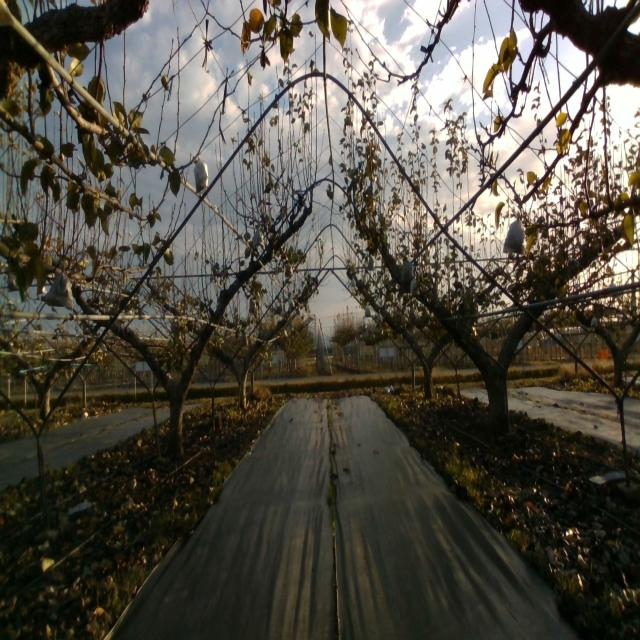pearbags: (503, 212, 525, 254), (193, 154, 209, 194), (252, 224, 266, 252), (400, 257, 413, 284)
